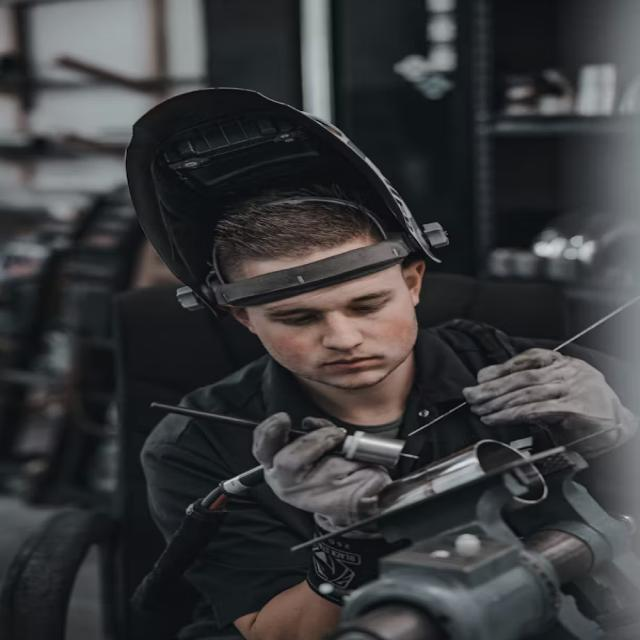helmet_lifted: (100, 74, 480, 403)
